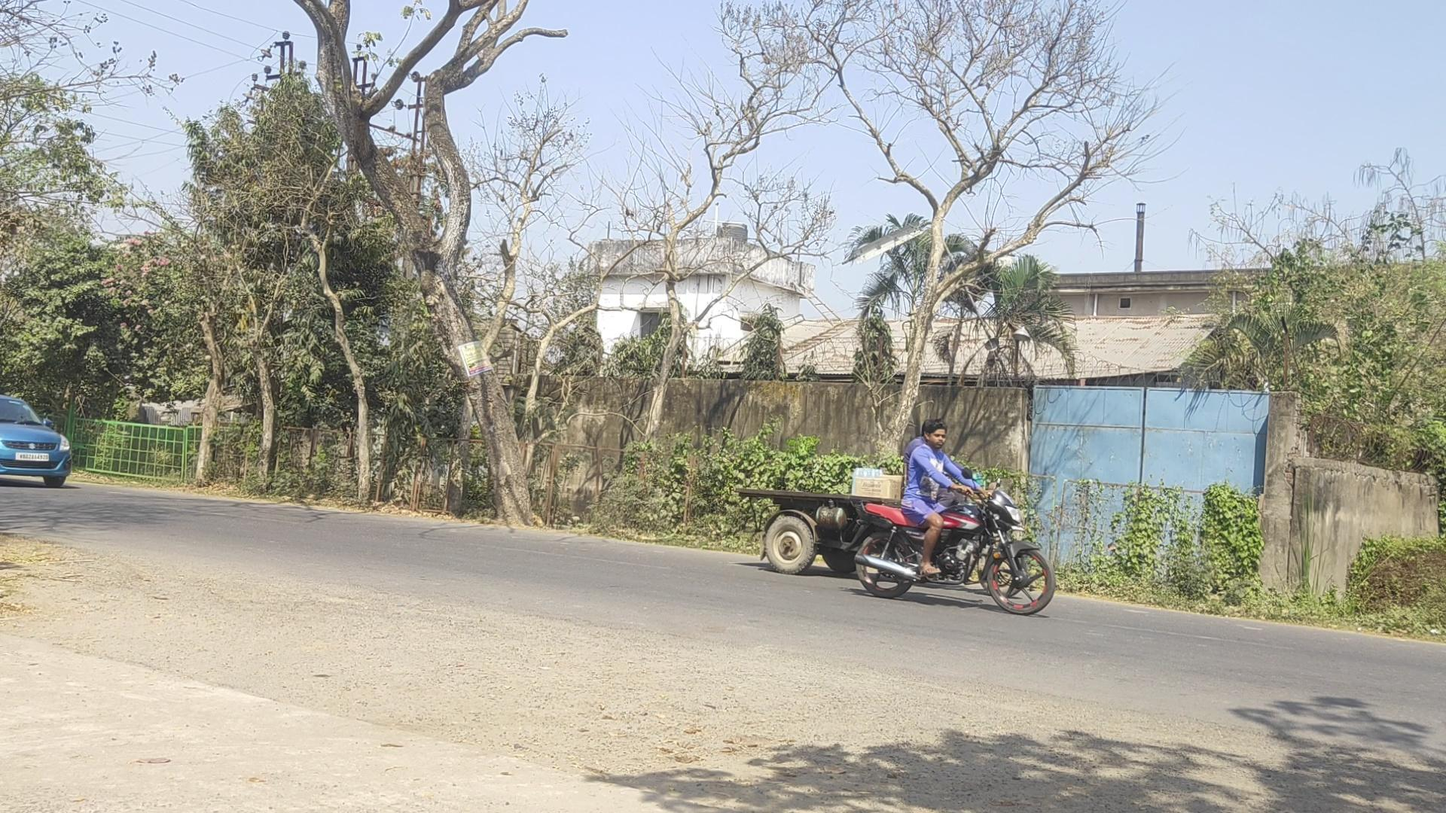bike: (853, 421, 1055, 616)
car: (1, 396, 71, 490)
